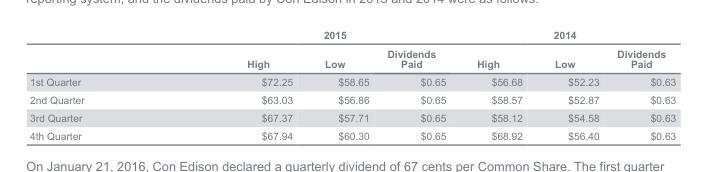table: (29, 28, 675, 140)
table column: (164, 28, 308, 140), (29, 28, 164, 140), (377, 28, 460, 140), (460, 28, 537, 140), (537, 28, 607, 140), (308, 28, 377, 140), (607, 28, 675, 140)
table column header: (29, 28, 675, 72)
table row: (29, 43, 675, 72), (29, 72, 675, 90), (29, 90, 675, 108), (29, 108, 675, 126), (29, 28, 675, 43), (29, 126, 675, 140)
table spanning cell: (164, 28, 460, 43), (460, 28, 675, 43)
